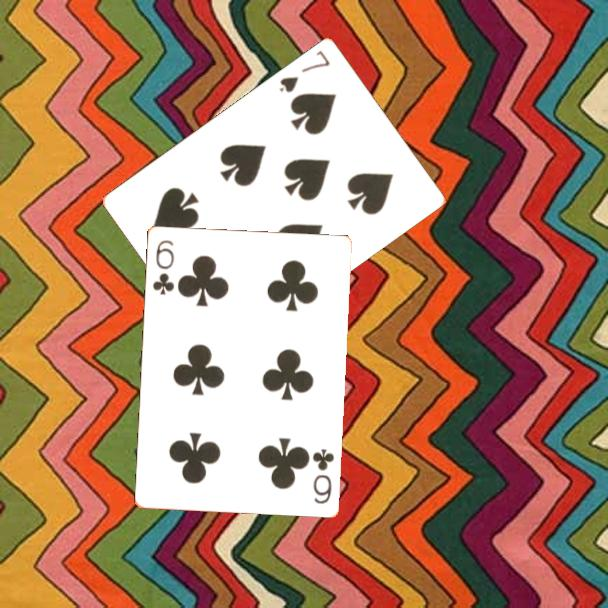c06: (149, 236, 177, 297), (309, 445, 337, 506)
s07: (276, 47, 333, 95)
